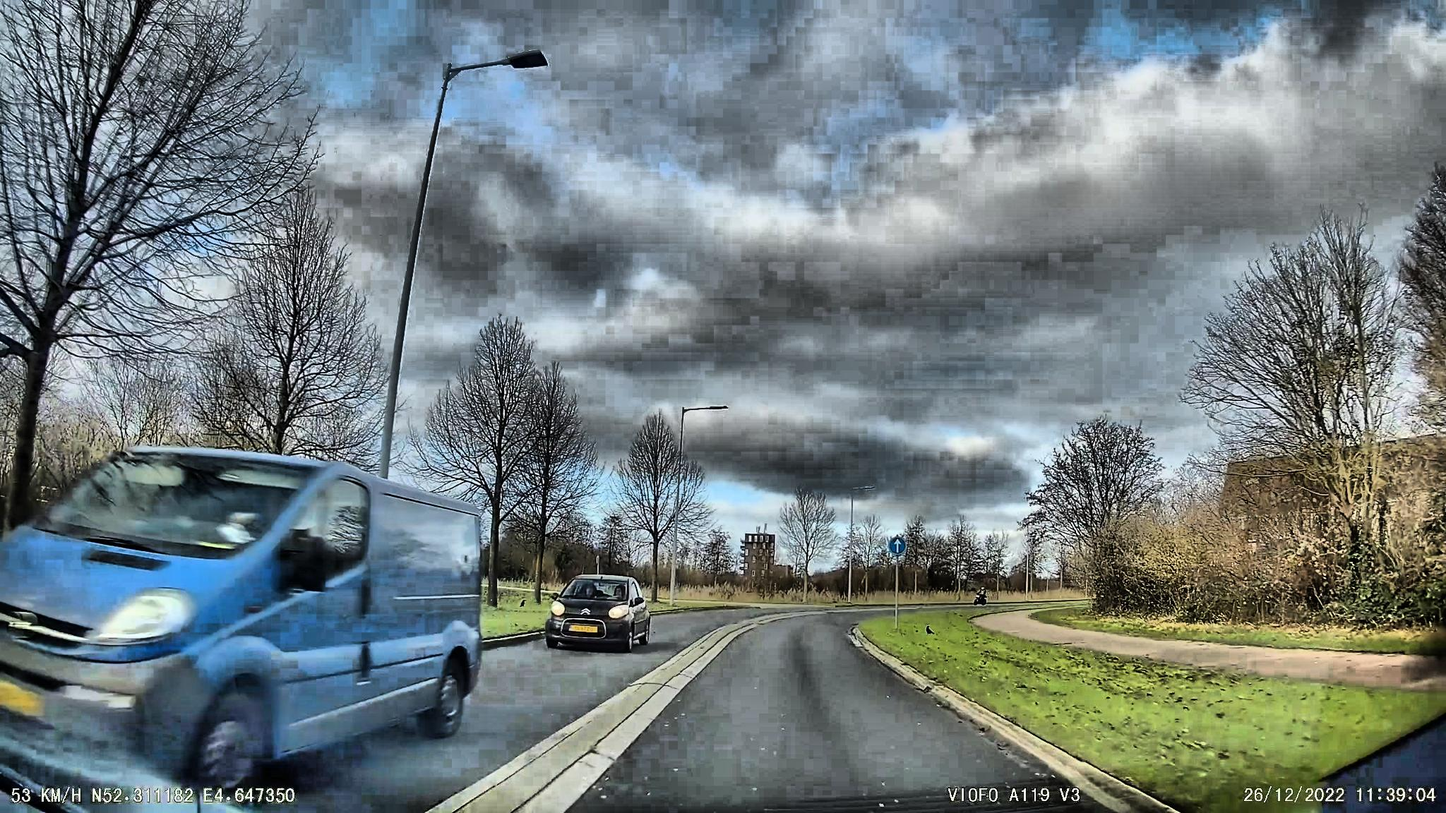Roads: (284, 611, 1124, 813)
